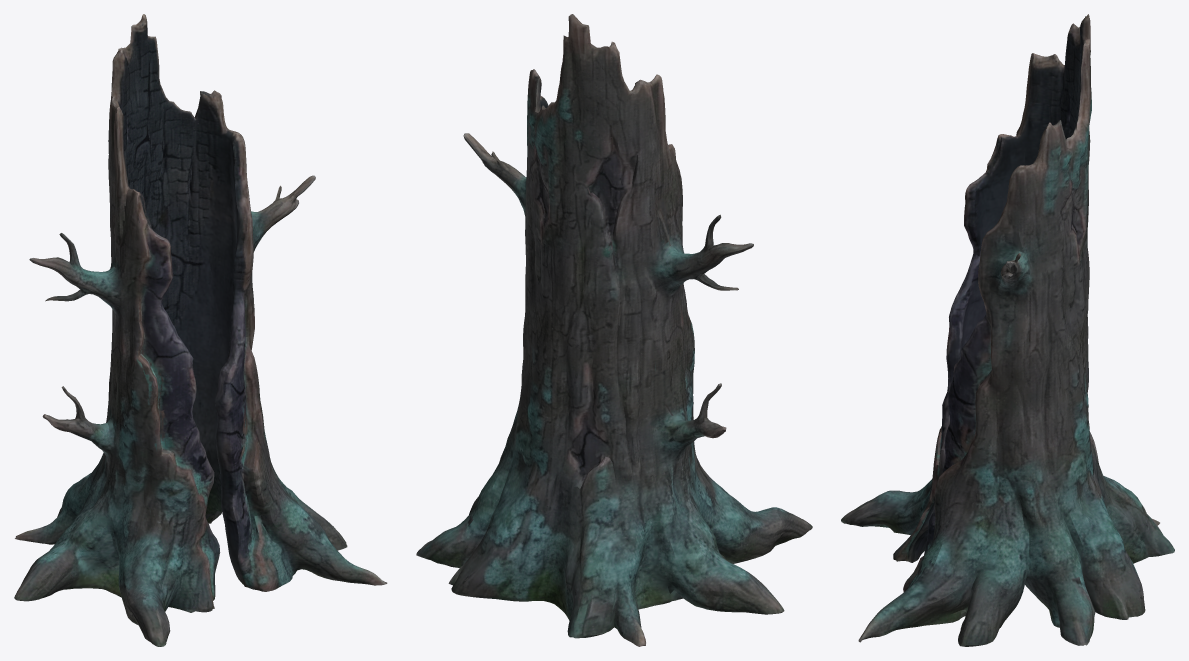
Rendered from scarred_trunk_v1_retex.glb.
The picture shows the model from 3 angles, left to right: view 1: azimuth 30°, elevation 25°; view 2: azimuth 150°, elevation 25°; view 3: azimuth 270°, elevation 25°; orthographic projection. The views are drawn at different scales.
Bounding box in the file's own units: 1.16 × 1.9 × 1.03.
1 material, 1 textured.
